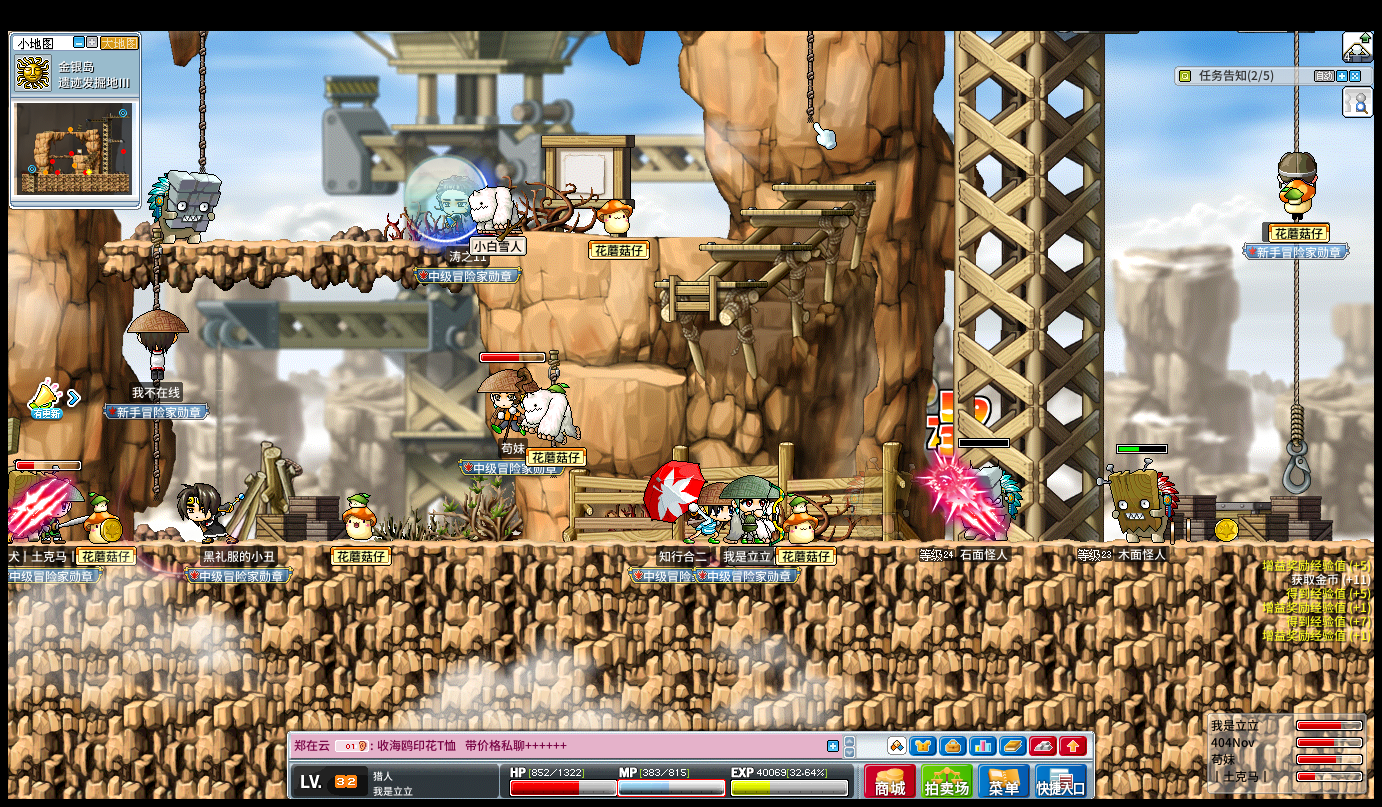floor: (16, 537, 1374, 550), (99, 238, 480, 250), (580, 363, 687, 388), (584, 232, 733, 240), (698, 243, 811, 252), (652, 280, 767, 288), (741, 207, 846, 215), (772, 183, 876, 190)
monster: (1102, 461, 1178, 540), (146, 169, 223, 244), (966, 466, 1024, 538)
rope: (1293, 257, 1304, 412), (198, 33, 207, 173), (151, 420, 164, 499), (803, 31, 814, 124), (151, 232, 164, 308), (806, 30, 815, 123), (1293, 31, 1299, 151), (151, 417, 160, 497), (1290, 402, 1305, 448)
